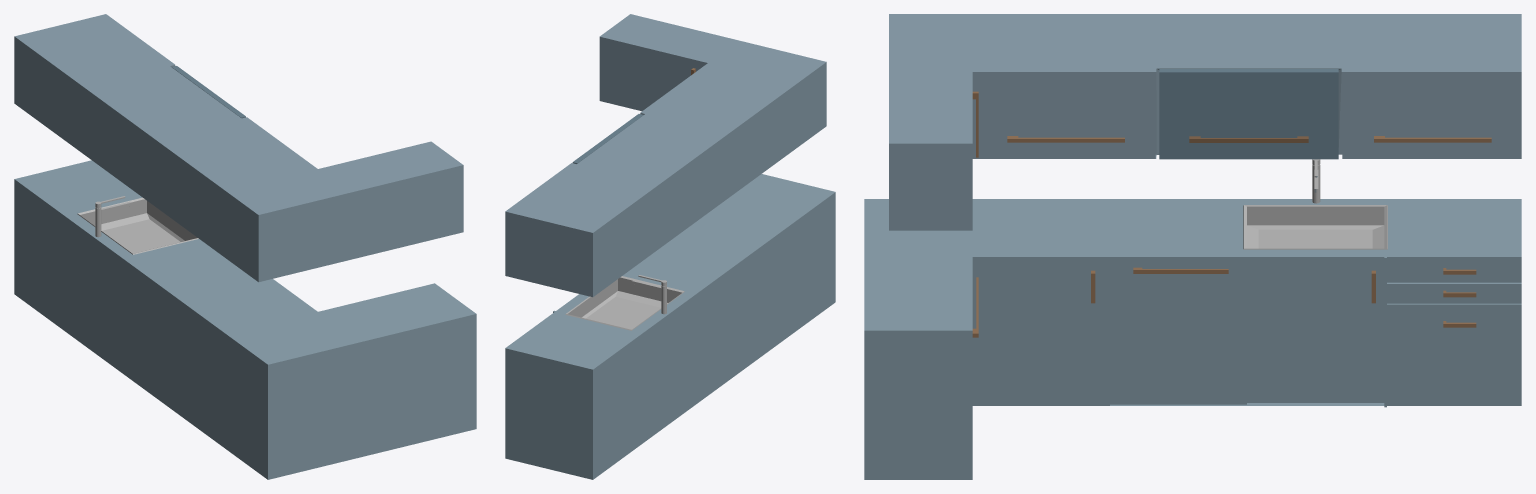
File: Cucina.fbx
3 renders of one model, left to right at view 1: azimuth 30°, elevation 25°; view 2: azimuth 150°, elevation 25°; view 3: azimuth 270°, elevation 25°, orthographic. The views are drawn at different scales.
Parts seen in each view (by area): view 1: CucinaMobileSotto, CucinaMobileSopra; view 2: CucinaMobileSotto, CucinaMobileSopra, CucinaAntaCredenza; view 3: CucinaMobileSotto, CucinaMobileSopra, CucinaAntaCredenza.
Boxes of the visible parts, box(x1,y1,x2,y2) form: CucinaMobileSotto: box(14, 160, 476, 479); CucinaMobileSopra: box(14, 14, 463, 282); CucinaMobileSotto: box(505, 174, 835, 479); CucinaMobileSopra: box(505, 14, 826, 297); CucinaAntaCredenza: box(572, 114, 643, 163); CucinaMobileSotto: box(864, 159, 1521, 479); CucinaMobileSopra: box(889, 14, 1521, 230); CucinaAntaCredenza: box(1159, 69, 1338, 159).
Bounding box in the file's own units: 176 × 208 × 371.
